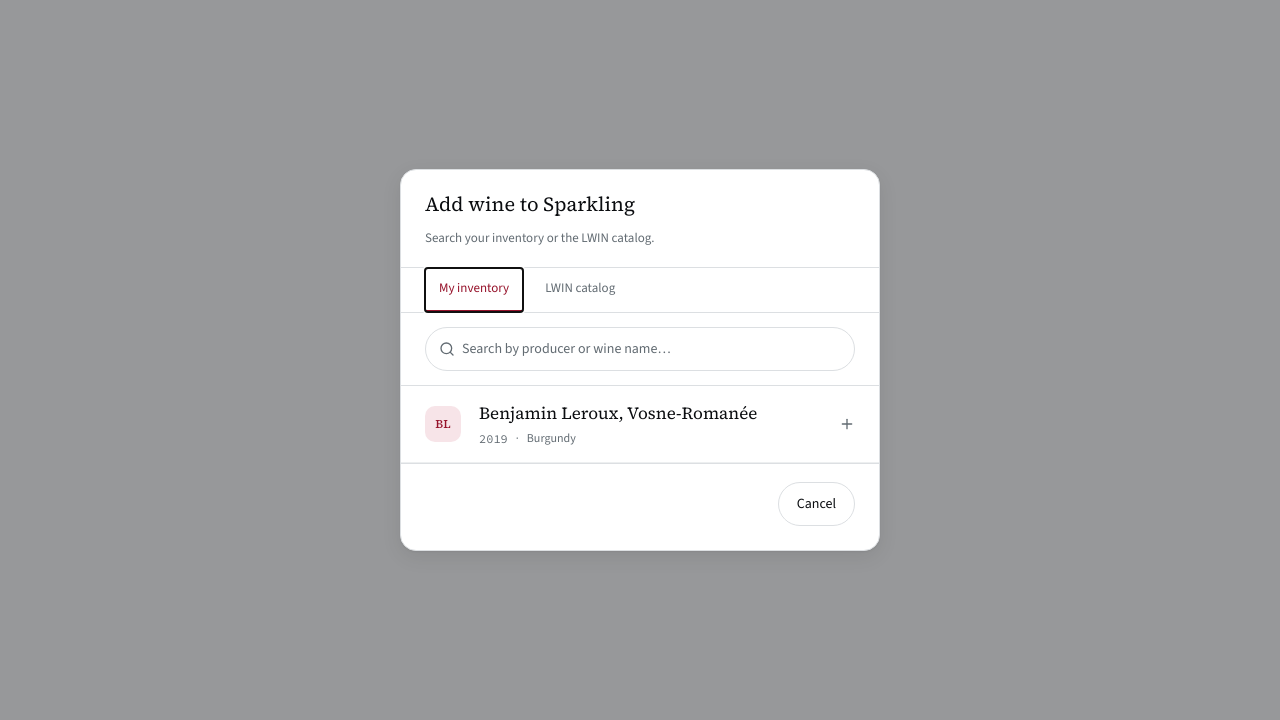
Test: AddWineModal pricing and destination › leaves the inputs empty when no suggestion can be computed
Click the button "BL Benjamin Leroux, Vosne-Romanée 2019 · Burgundy" at point(640, 424), box [401, 386, 879, 463]
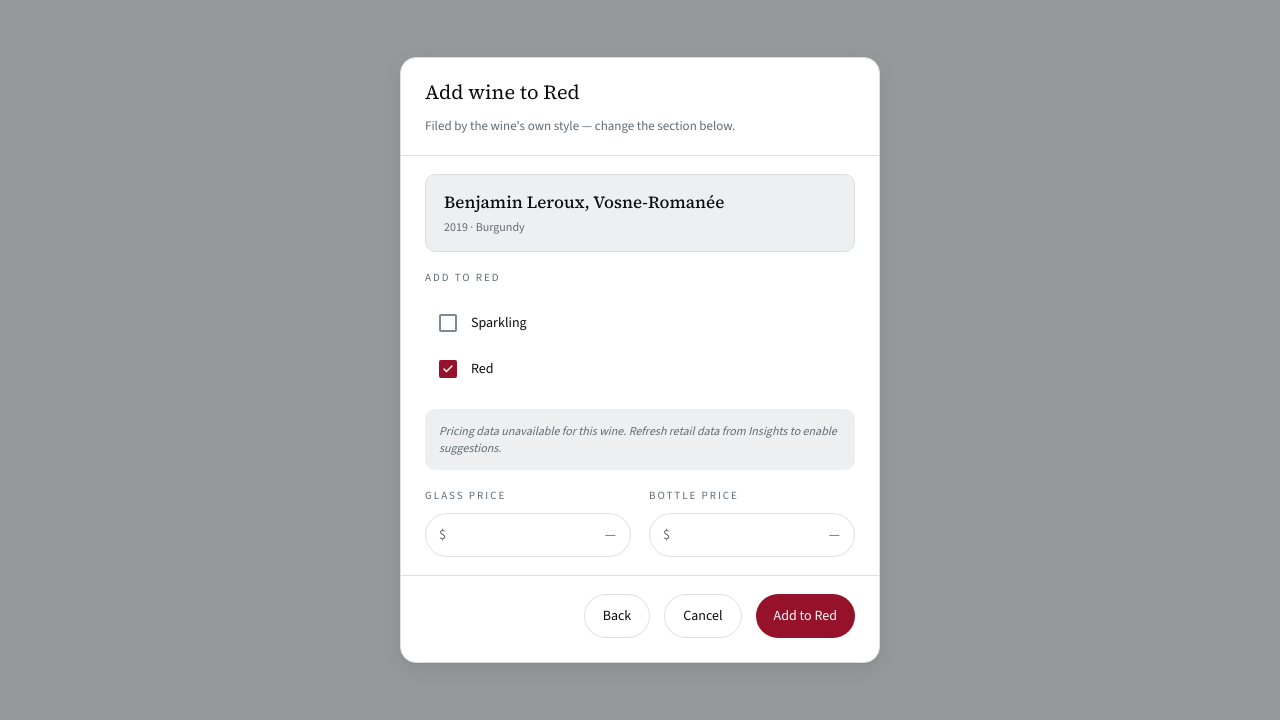
Check: the field with id "add-wine-bottle-price" is empty, box [649, 513, 855, 557]
Check: the text "Pricing data unavailable" is shown, box [439, 423, 837, 456]
